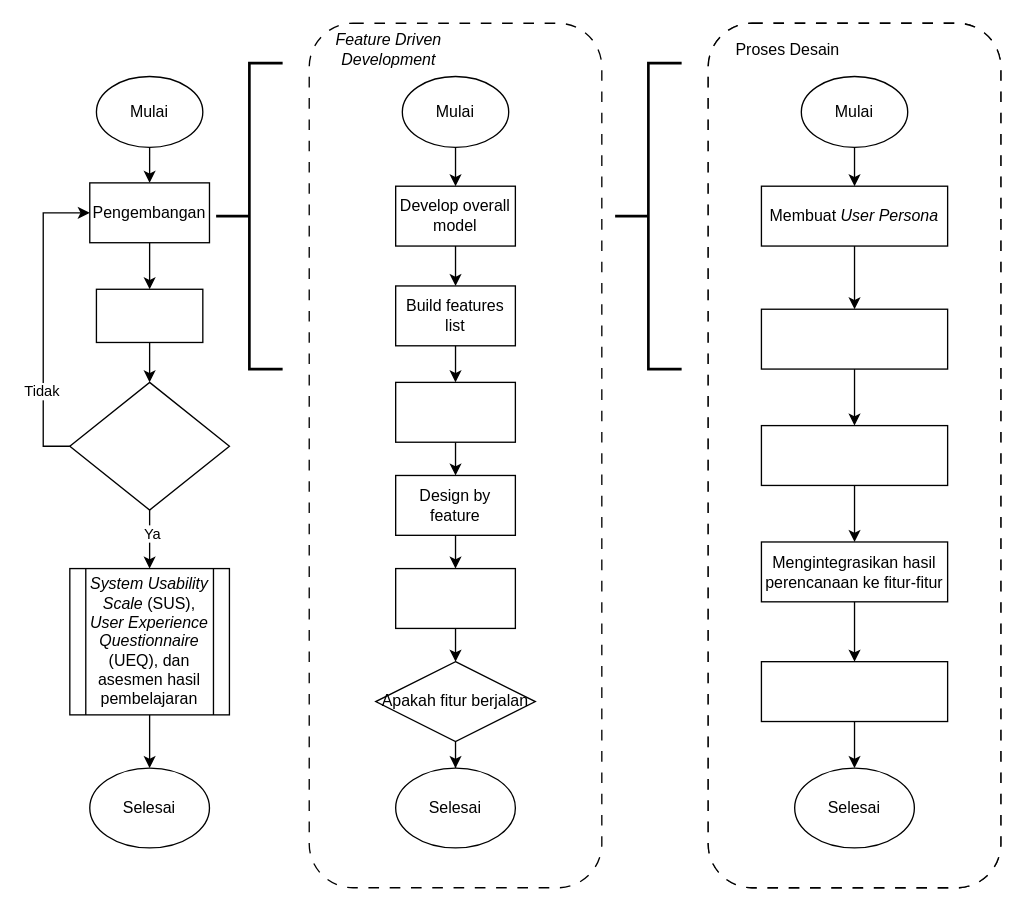
This 1024x911 diagram has some shape labels left out. The box of each missing label's shape, as (x1, y1, x2, y2) in pixels:
Apakah berfungsi sesuai rancangan: (68, 381, 229, 510)
Blackbox testing: (95, 288, 203, 342)
Build by feature: (394, 567, 515, 628)
Mendefinisikan alur tiap fitur: (760, 660, 948, 722)
Menentukan aktivitas utama: (760, 308, 948, 369)
Menentukan mechanics, dynamics, dan aesthetics: (760, 424, 948, 485)
Plan by feature: (394, 381, 515, 442)
